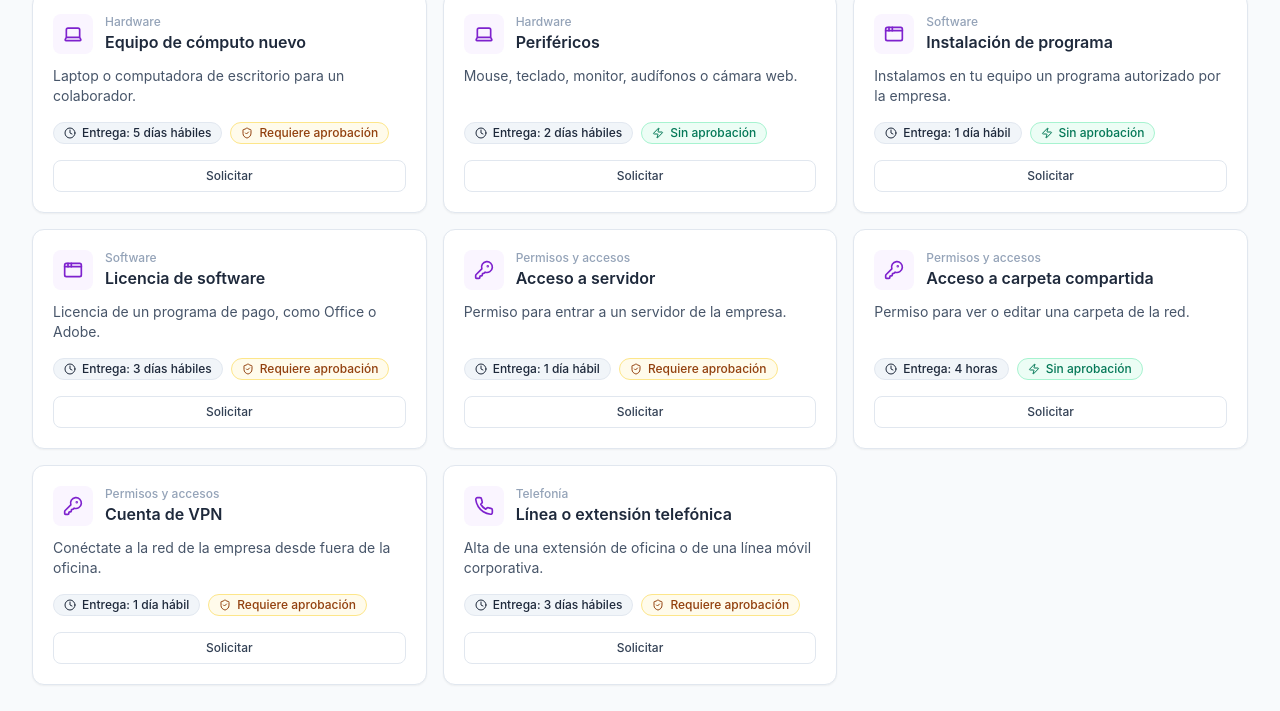
Test case: RequestsPage › registra la petición como nueva y en espera de aprobación
(page scrolled)
Click the button with aria-label "Solicitar Acceso a servidor" at (640, 412), box [464,396,816,428]
(page scrolled)
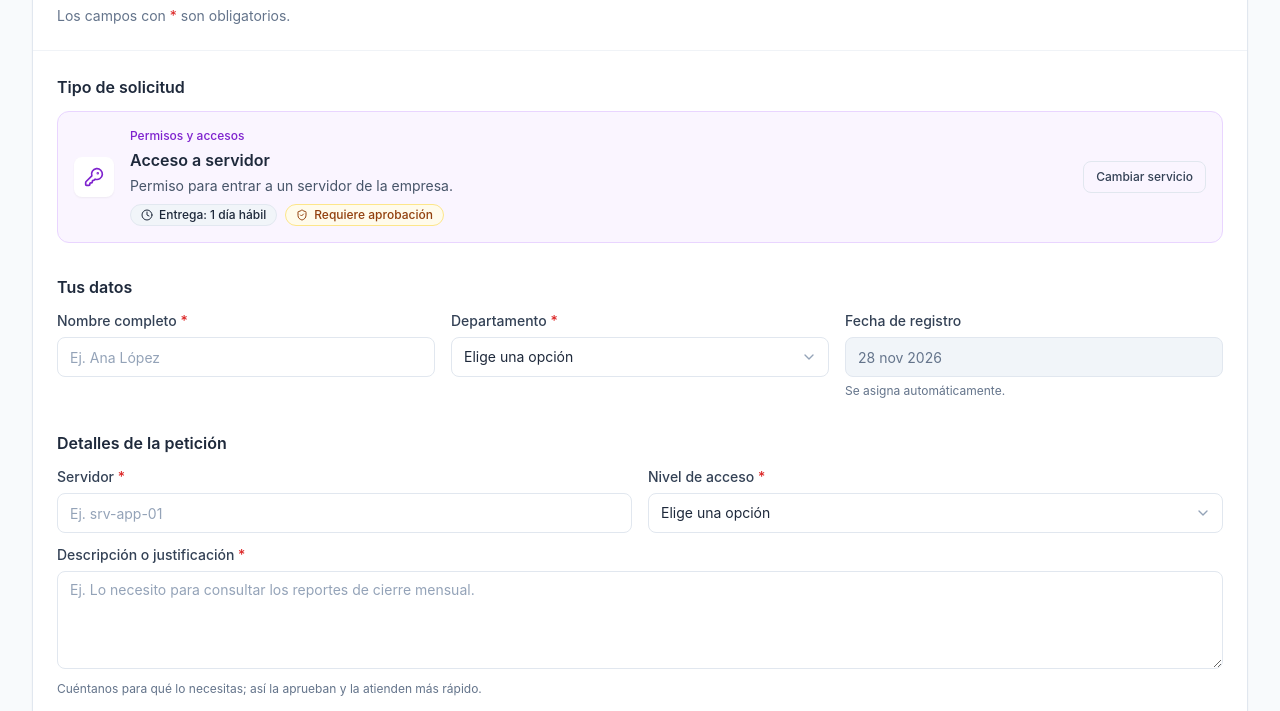
Type "Daniela Ruiz" into the field labelled "Nombre completo *" at (246, 357), box [57,337,435,377]
Select "Sistemas" in the dropdown labelled "Departamento *" at (640, 357), box [451,337,829,377]
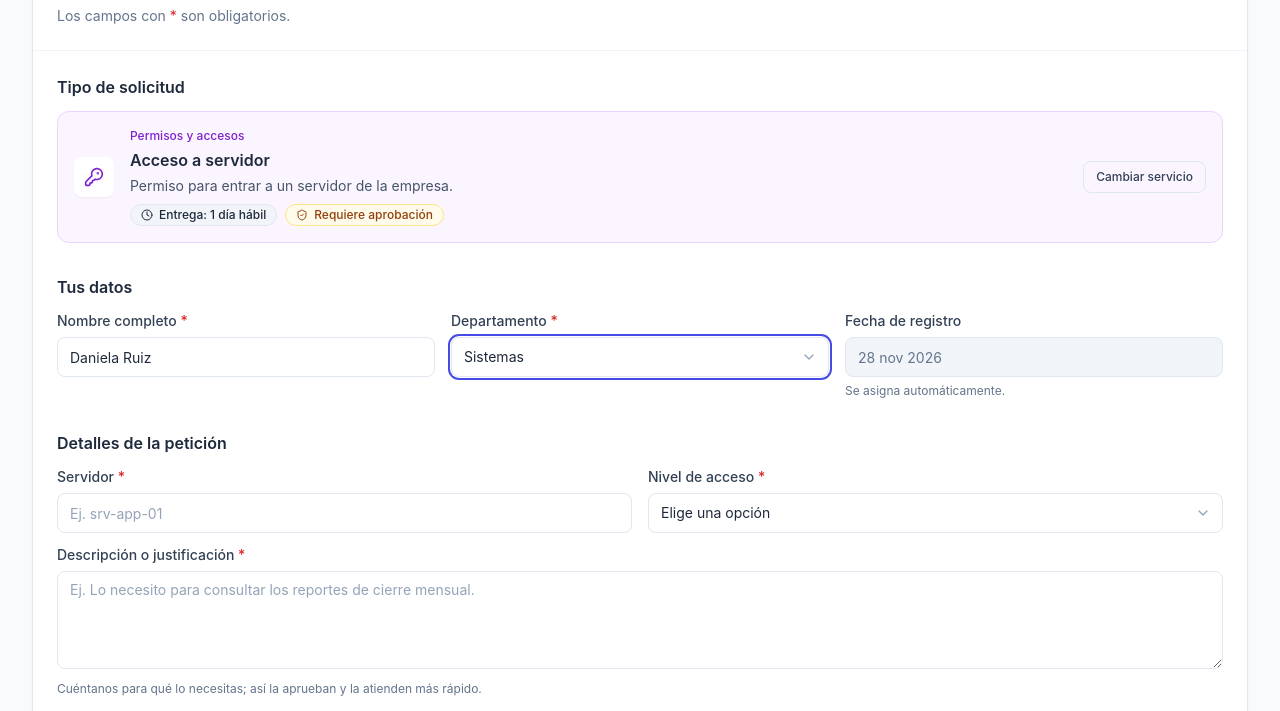
Type "srv-app-01" into the field labelled "Servidor *" at (344, 513), box [57,493,632,533]
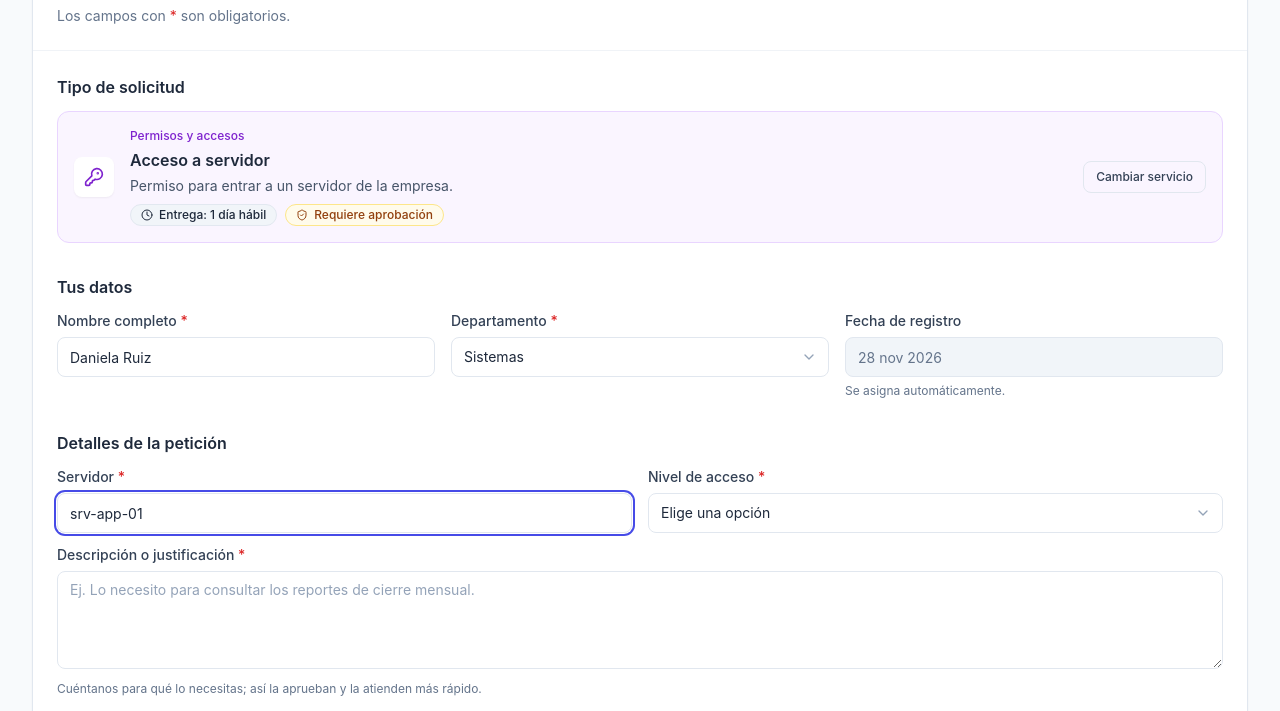
Select "Solo lectura" in the dropdown labelled "Nivel de acceso *" at (936, 513), box [648,493,1223,533]
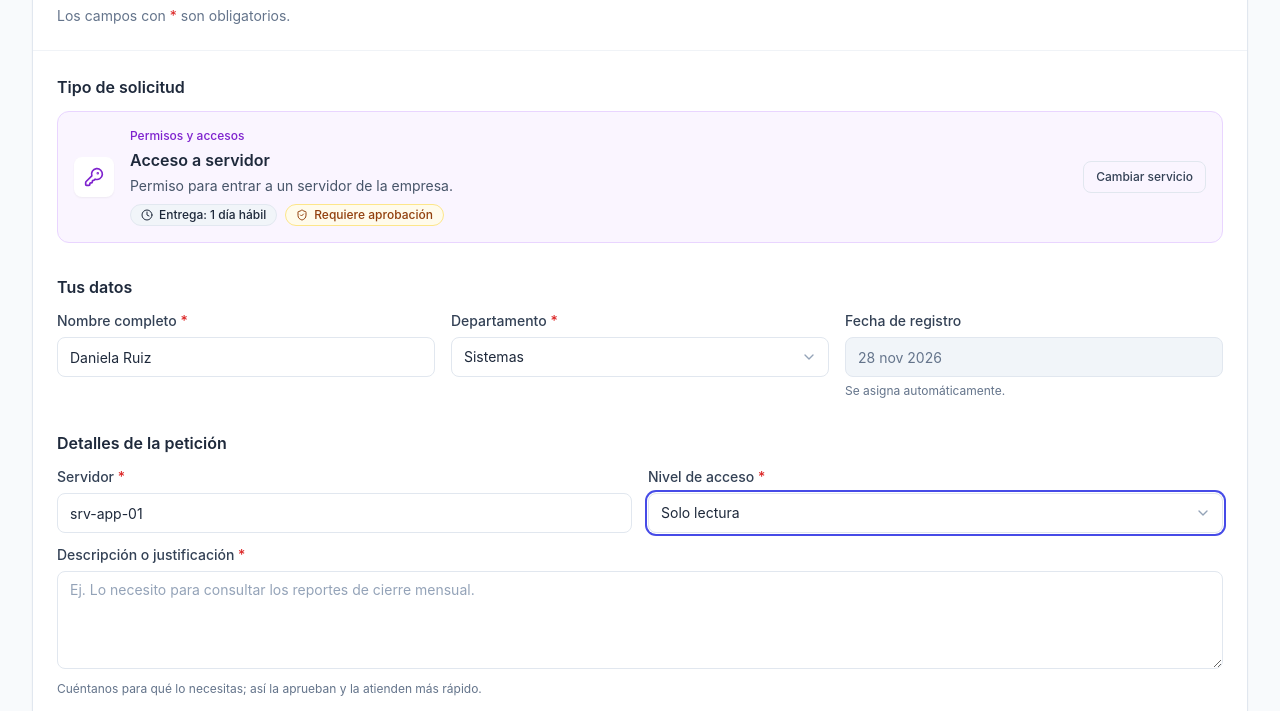
Type "Necesito revisar los logs de la aplicación." into the text box labelled "Descripción o justificación *" at (640, 620), box [57,571,1223,669]
(page scrolled)
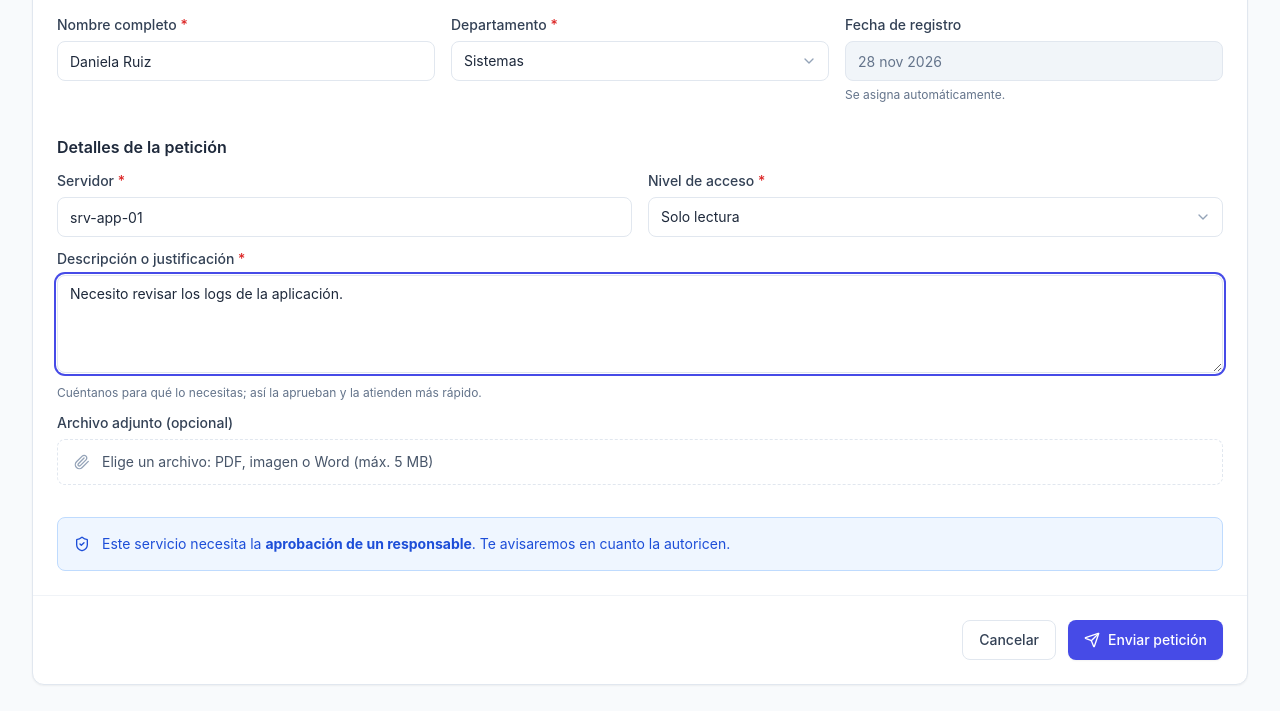
Click the button "Enviar petición" at (1146, 640), box [1068,620,1223,660]
(page scrolled)
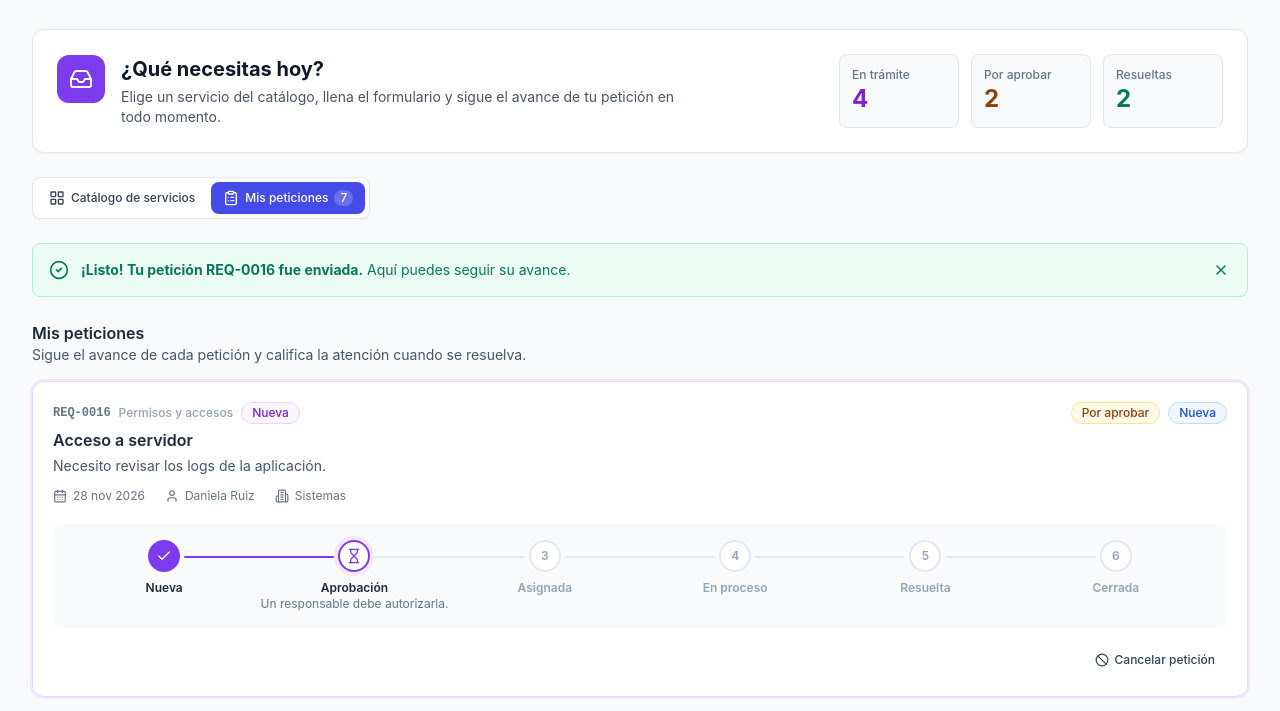
Check: the message shows "Tu petición REQ-0016 fue enviada", box [32,243,1248,297]
Check: the text "Daniela Ruiz" is shown, box [185,488,255,504]
Check: the 2nd text "Por aprobar" is shown, box [1071,402,1160,424]
